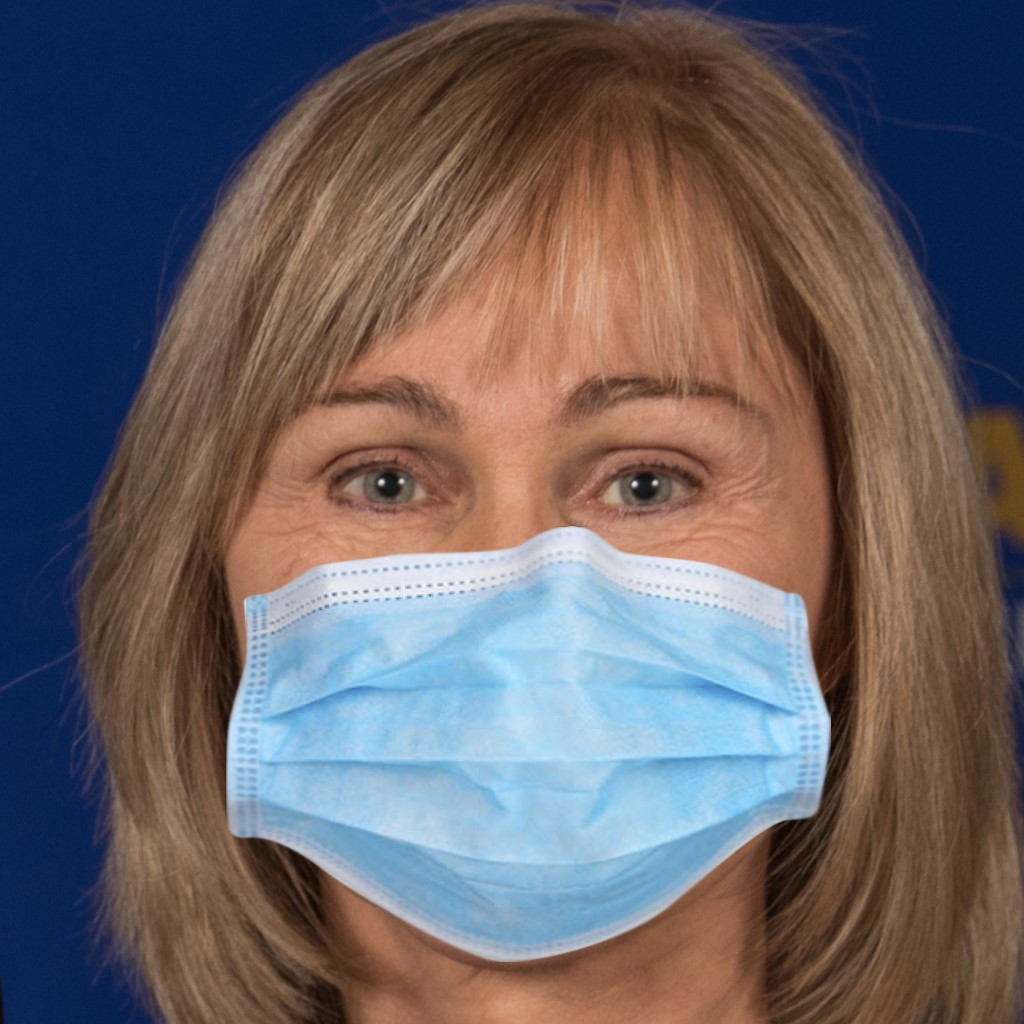con_mascara: (200, 119, 848, 959)
